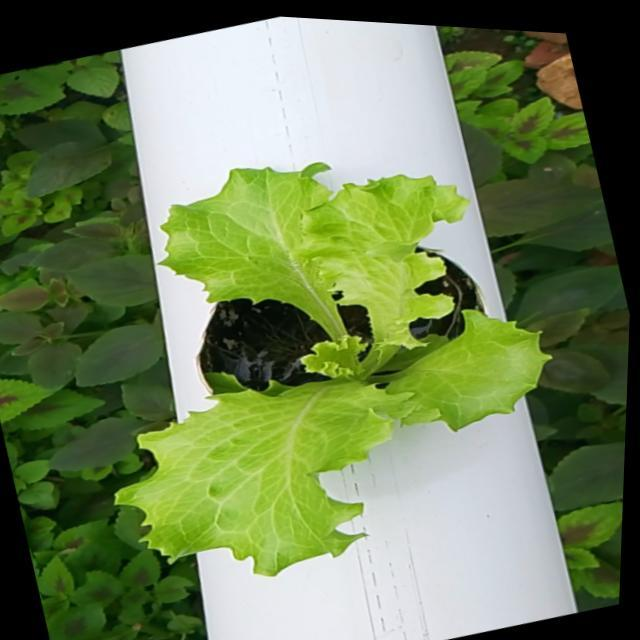Baby: (139, 159, 570, 567)
